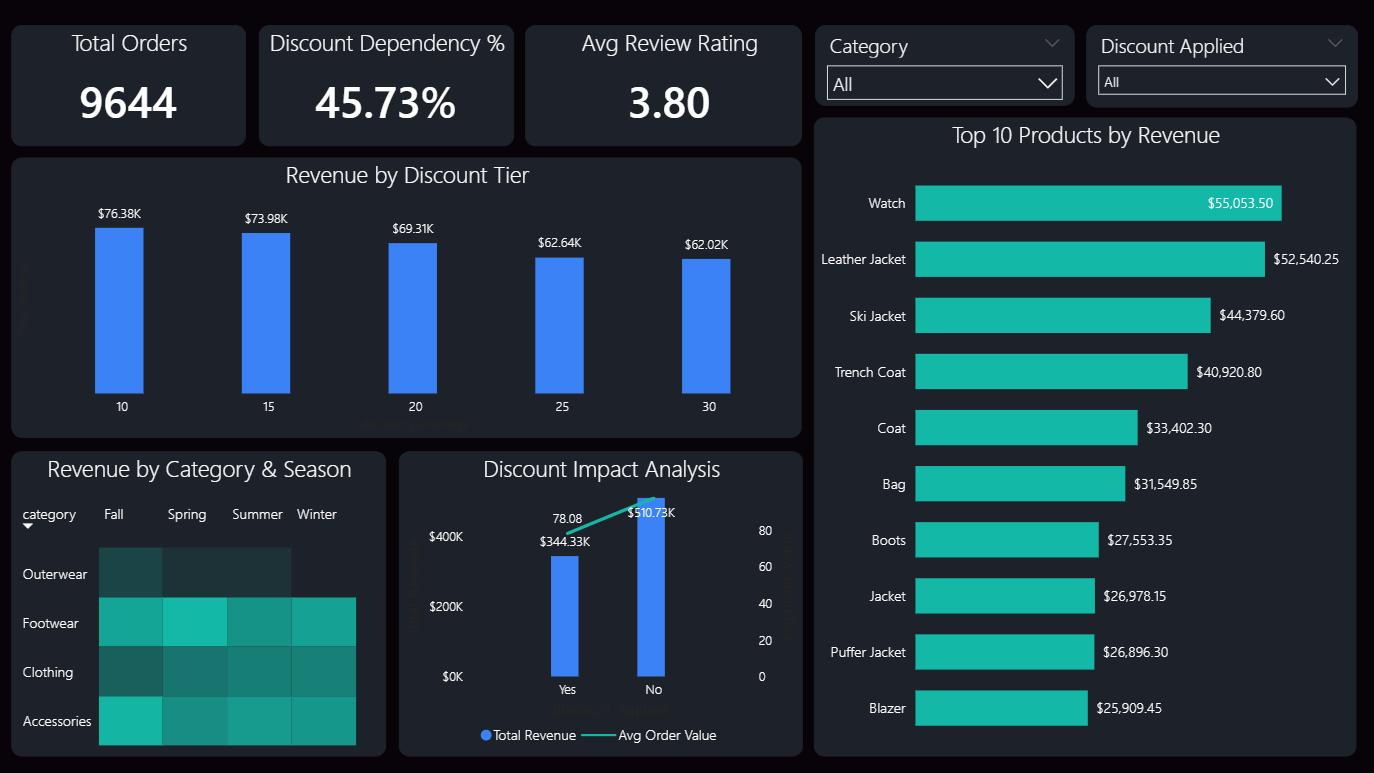

The dashboard page shown, as its layout file describes it:
{"tool":"powerbi","page":{"name":"Product & Discount Analysis","canvas":[1280,720],"ordinal":2},"visuals":[{"type":"card","title":"Total Orders","fields":{"Values":["Measure Table.Total Orders"]},"box":[11,23.3,218.2,112.5],"z":0},{"type":"card","title":"Discount Dependency %","fields":{"Values":["Measure Table.Discount Dependency %"]},"box":[241.2,23.3,237.4,112.5],"z":1000},{"type":"card","title":"Avg Review Rating","fields":{"Values":["Measure Table.Avg Review Rating"]},"box":[488.5,23.3,258,112.5],"z":2000},{"type":"lineClusteredColumnComboChart","title":" Discount Impact Analysis","fields":{"Y":["Measure Table.Total Revenue"],"Y2":["Measure Table.Avg Order Value"],"Category":["Fact_Transactions.discount_applied"]},"box":[370.5,419.9,376,284],"z":3000},{"type":"pivotTable","title":"Revenue by Category & Season","fields":{"Values":["Measure Table.Total Revenue"],"Rows":["Dim_Product.category"],"Columns":["Fact_Transactions.season"]},"box":[11,419.9,348.5,284],"z":4000},{"type":"slicer","fields":{"Values":["Dim_Product.category"]},"box":[757.8,23.3,241.5,75.5],"z":5000},{"type":"slicer","fields":{"Values":["Fact_Transactions.discount_applied"]},"box":[1010,23.3,252.5,76.8],"z":6000},{"type":"columnChart","title":" Revenue by Discount Tier","fields":{"Category":["Fact_Transactions.discount_percentage"],"Y":["Measure Table.Total Revenue"]},"box":[11,146.8,735.5,260.7],"z":7000},{"type":"clusteredBarChart","title":"Top 10 Products by Revenue","fields":{"Category":["Dim_Product.item_name"],"Y":["Measure Table.Total Revenue"]},"box":[757.5,109.8,505,594.2],"z":8000}]}

Visuals, with their boxes in screenshot pixels (x1, y1, x2, y2), scaled from the page's 1280x720 canvas onto the 1374x773 screenshot:
"Total Orders" card: 12 25 246 146
"Discount Dependency %" card: 259 25 514 146
"Avg Review Rating" card: 524 25 801 146
" Discount Impact Analysis" lineClusteredColumnComboChart: 398 451 801 756
"Revenue by Category & Season" pivotTable: 12 451 386 756
slicer - Dim_Product.category: 813 25 1073 106
slicer - Fact_Transactions.discount_applied: 1084 25 1355 107
" Revenue by Discount Tier" columnChart: 12 158 801 437
"Top 10 Products by Revenue" clusteredBarChart: 813 118 1355 756
